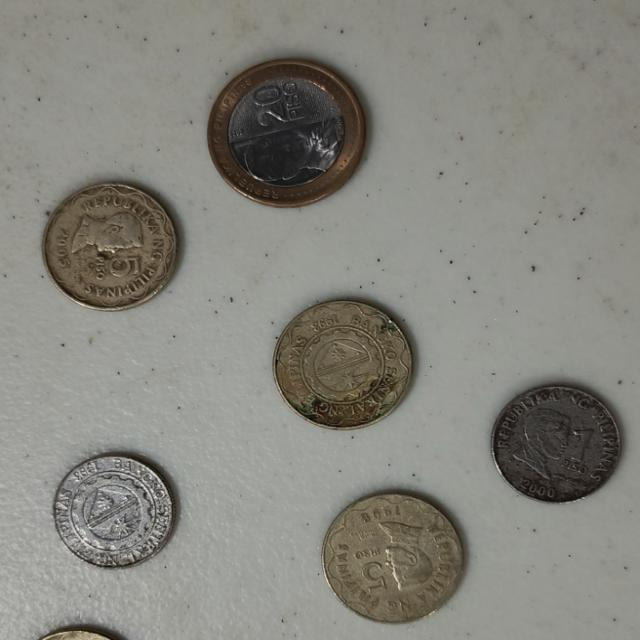1_peso: (494, 386, 620, 503), (54, 456, 172, 567)
20_peso: (208, 59, 364, 206)
5_peso: (323, 494, 462, 622), (274, 300, 412, 428), (43, 184, 176, 310)
